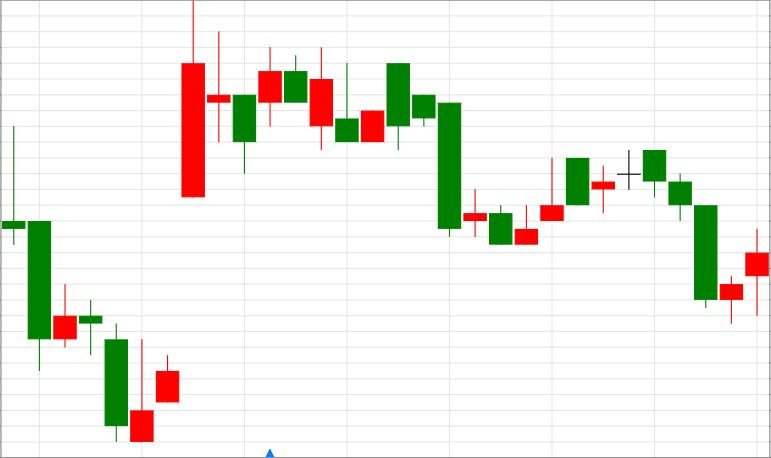inverse_hammer_rise: (2, 126, 153, 443)
three_black_crows_fall: (515, 149, 717, 308)
